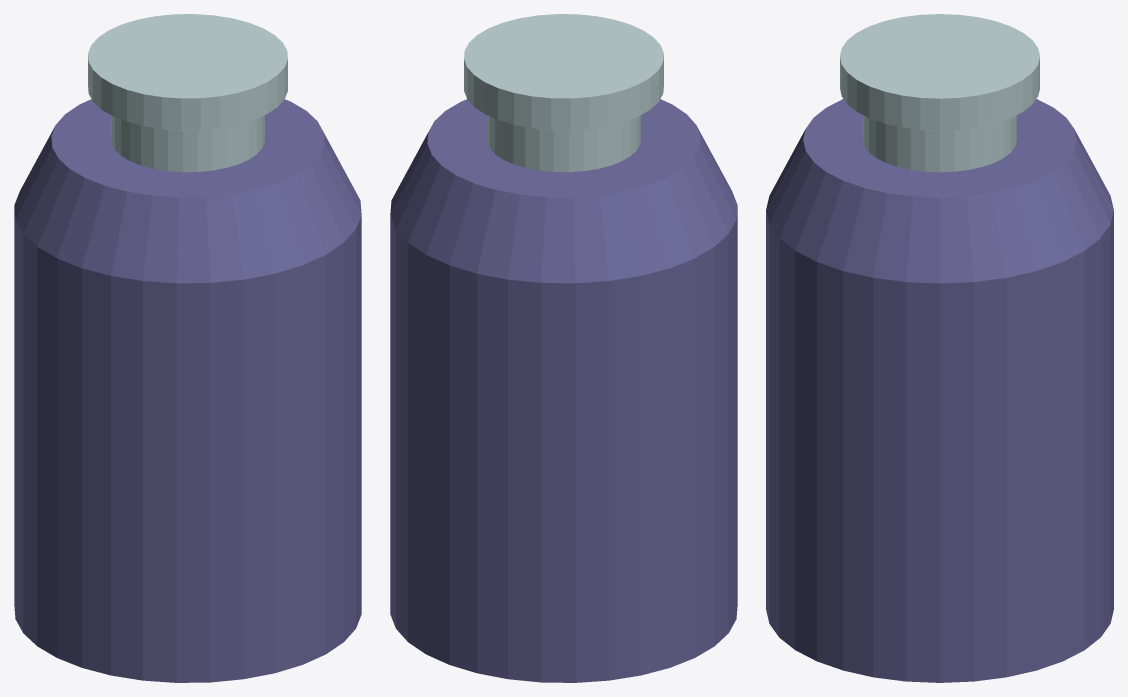
Rendered from Water.fbx.
3 views of the same model, side by side, from view 1: azimuth 30°, elevation 25°; view 2: azimuth 150°, elevation 25°; view 3: azimuth 270°, elevation 25° (orthographic).
Visible parts, largest first — view 1: Water; view 2: Water; view 3: Water.
Part boxes in pixels (x1=…): Water: x1=14, y1=14, x2=361, y2=682; Water: x1=390, y1=14, x2=737, y2=682; Water: x1=766, y1=14, x2=1113, y2=682.
Bounding box in the file's own units: 10 × 17.54 × 10.
Materials: 1 (1 with a texture image).
